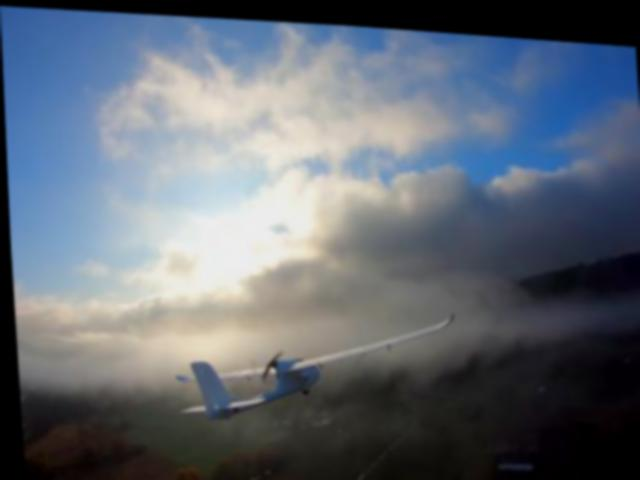uav: (159, 274, 465, 444)
